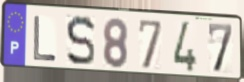4: (172, 20, 199, 75)
7: (207, 22, 235, 75), (137, 18, 164, 71)
8: (102, 16, 130, 70)
L: (32, 14, 58, 63)
S: (64, 14, 96, 68)
